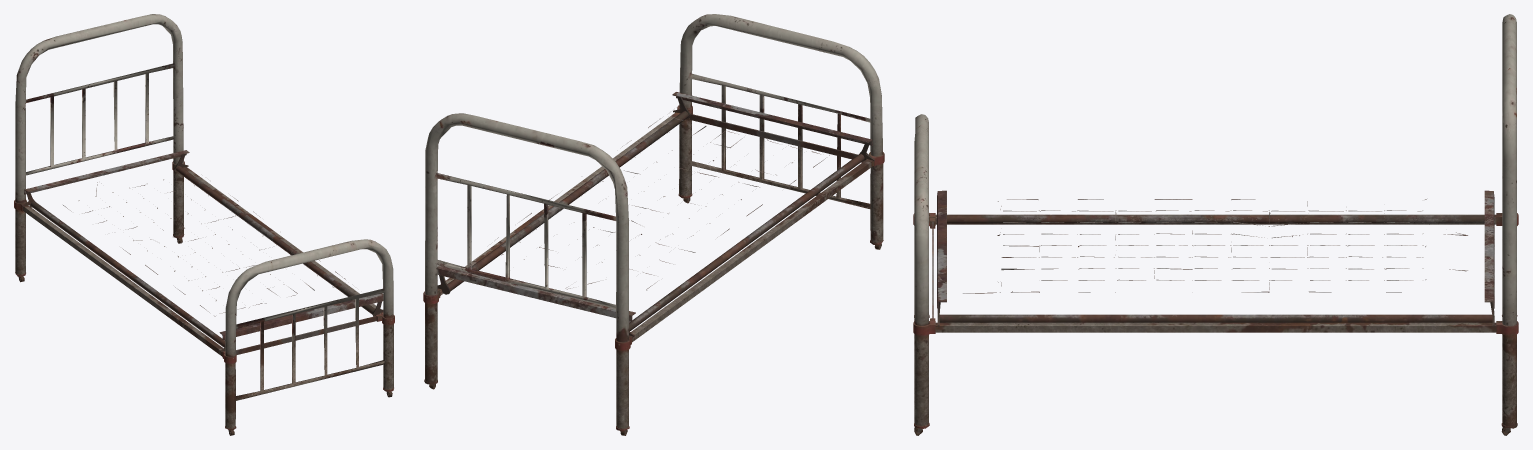
The model's file is old_bed_frame.glb.
3 renders of one model, left to right at view 1: azimuth 30°, elevation 25°; view 2: azimuth 150°, elevation 25°; view 3: azimuth 270°, elevation 25°, orthographic. The views are drawn at different scales.
Parts seen in each view (by area): view 1: old_bed_frame; view 2: old_bed_frame; view 3: old_bed_frame.
Part boxes in pixels (x1,y1,x2,y2): old_bed_frame: [14, 14, 394, 435]; old_bed_frame: [423, 14, 884, 435]; old_bed_frame: [913, 14, 1518, 435].
Bounding box in the file's own units: 0.9046 × 1.2 × 2.
Materials: 1 (1 with a texture image).
